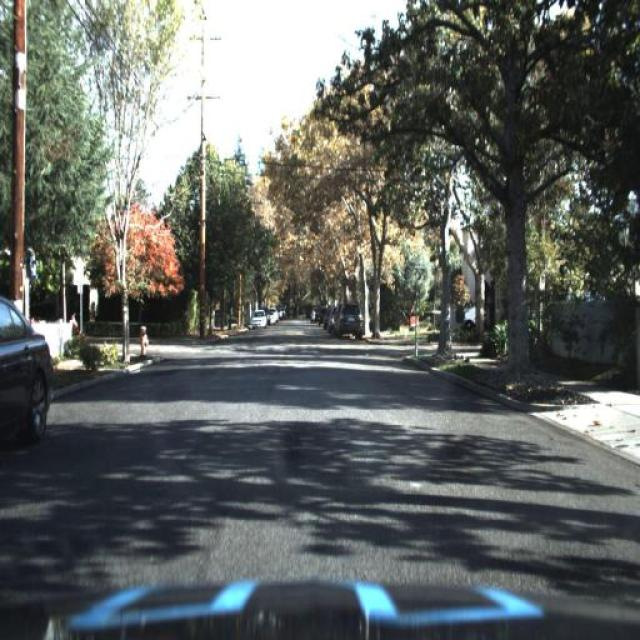car: (0, 284, 56, 456), (332, 303, 367, 342), (249, 303, 267, 331)
